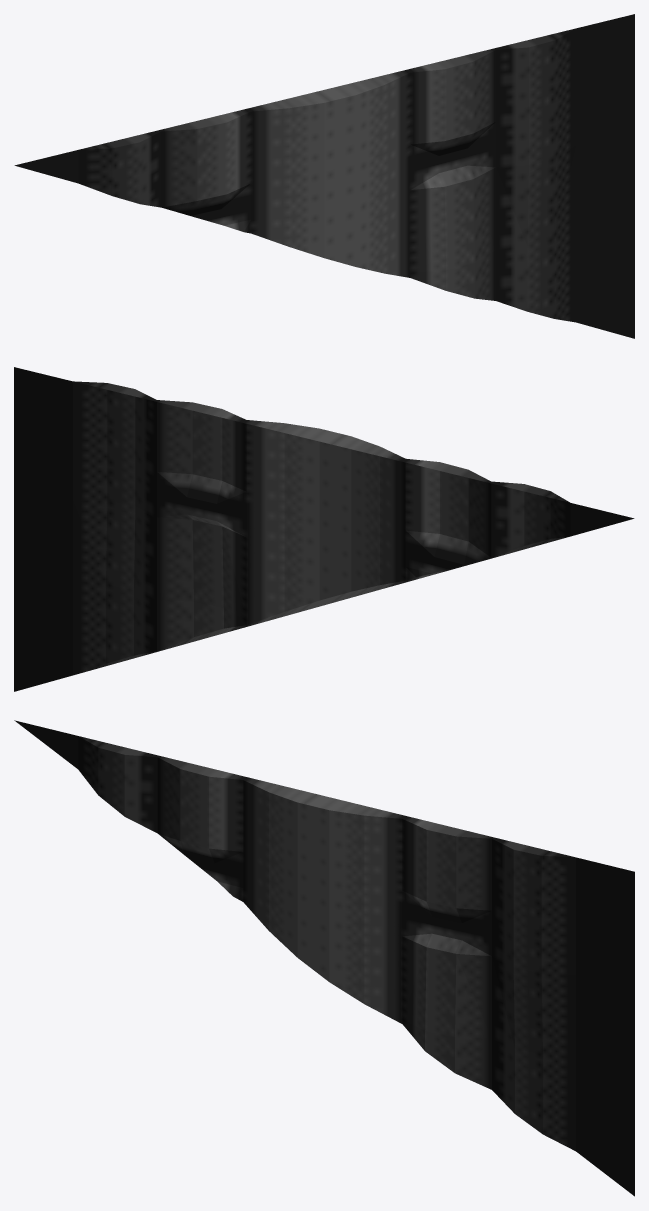
The model's file is stor1_6_slice128_up_rh.fbx.
The picture shows the model from 3 angles, top to bottom: view 1: azimuth 30°, elevation 25°; view 2: azimuth 150°, elevation 25°; view 3: azimuth 330°, elevation 25°; orthographic projection.
Parts seen in each view (by area): view 1: stor1_6_mesh; view 2: stor1_6_mesh; view 3: stor1_6_mesh.
Part boxes in pixels (left/top/right/bottom): stor1_6_mesh: left=14, top=14, right=634, bottom=338; stor1_6_mesh: left=14, top=367, right=634, bottom=691; stor1_6_mesh: left=14, top=720, right=634, bottom=1196.
Size of the model in its own units: 256 by 128 by 9.54.
